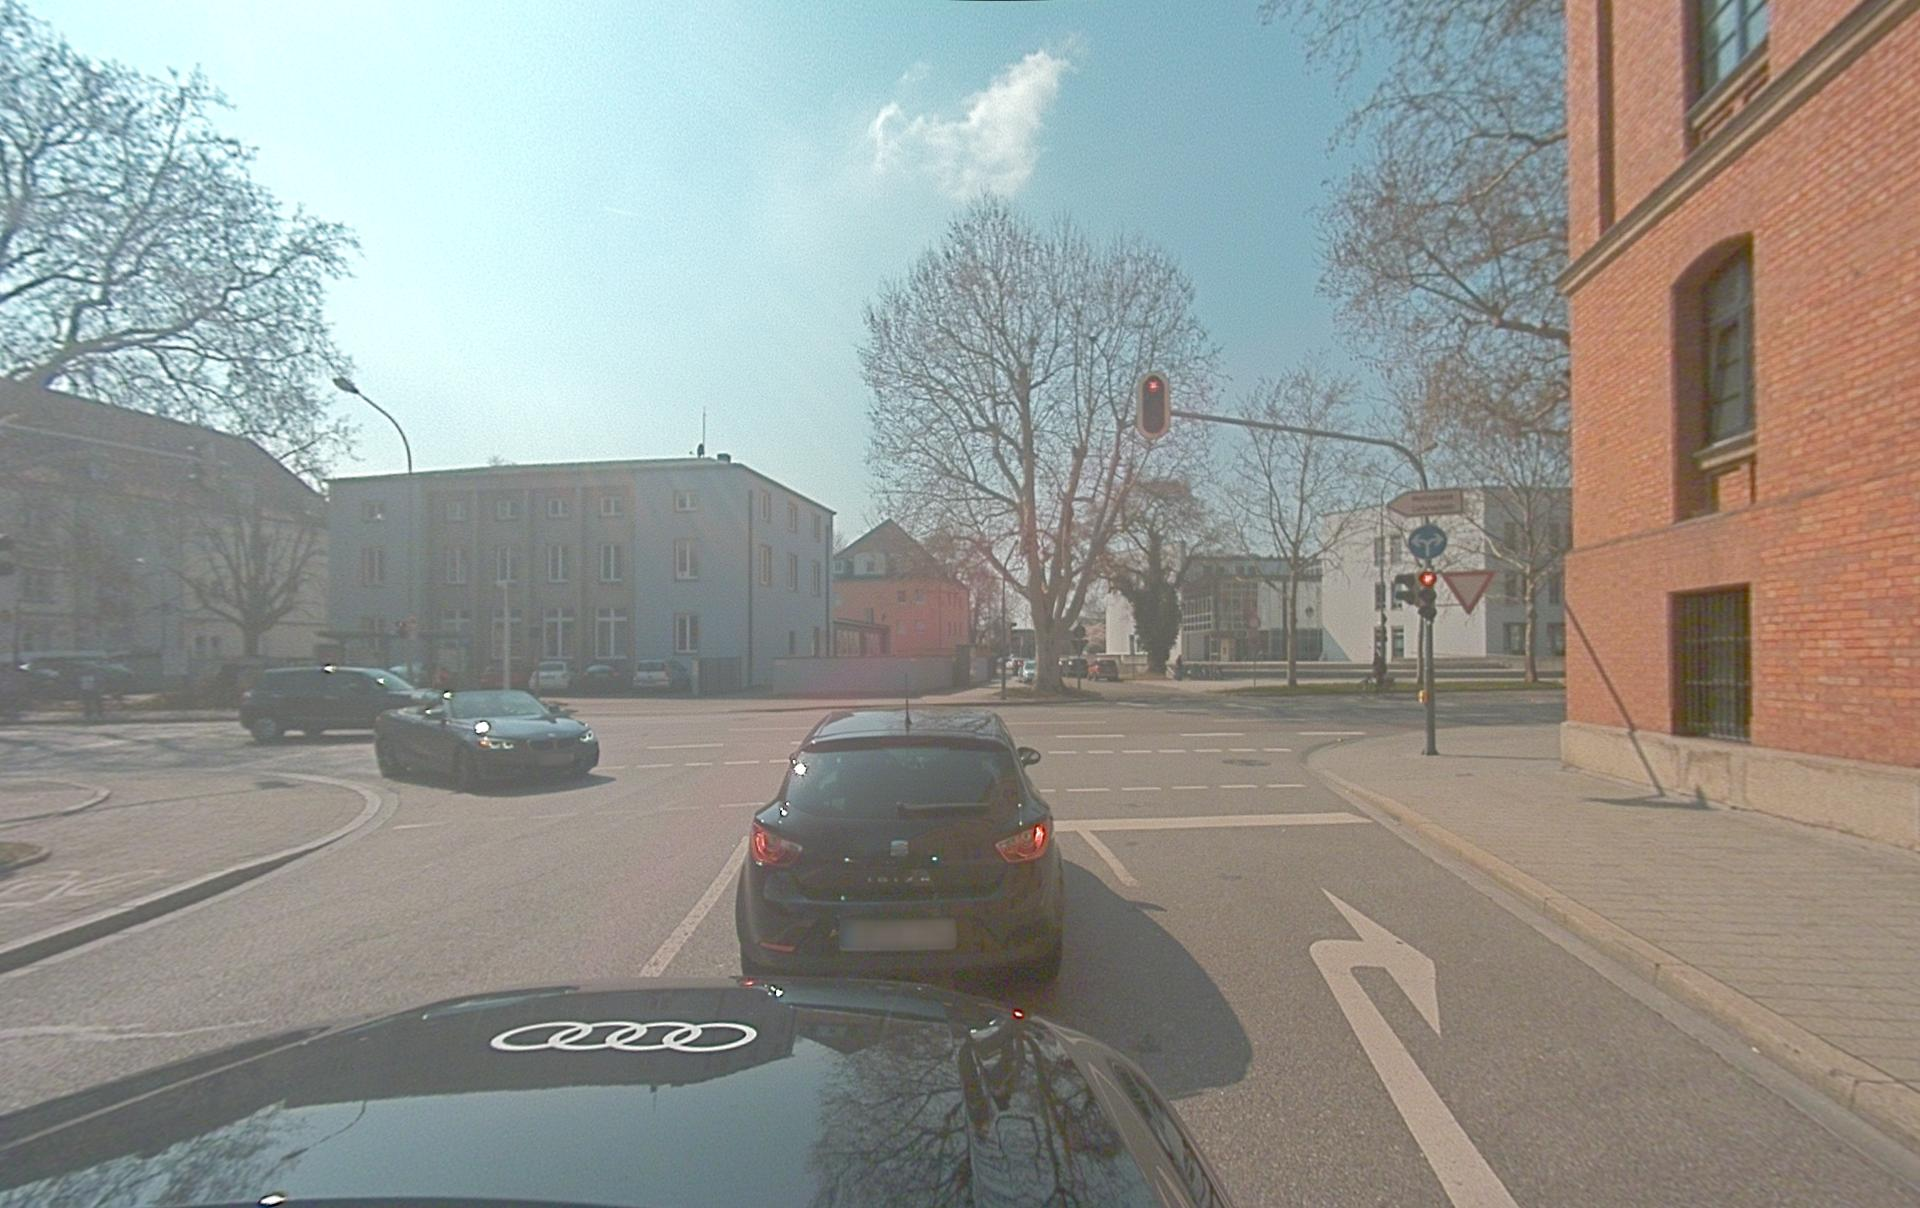car: (0, 977, 1238, 1208), (735, 706, 1066, 980), (374, 688, 600, 789), (239, 664, 444, 743), (633, 658, 691, 692), (529, 660, 573, 694), (1088, 658, 1119, 682), (1059, 655, 1088, 678), (1020, 660, 1038, 683)
traffic sign: (1387, 487, 1465, 518), (1407, 523, 1448, 561)
